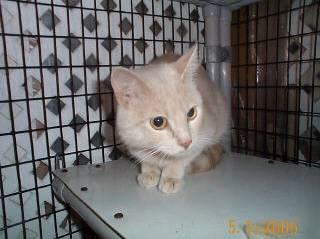cat: (111, 45, 229, 192)
